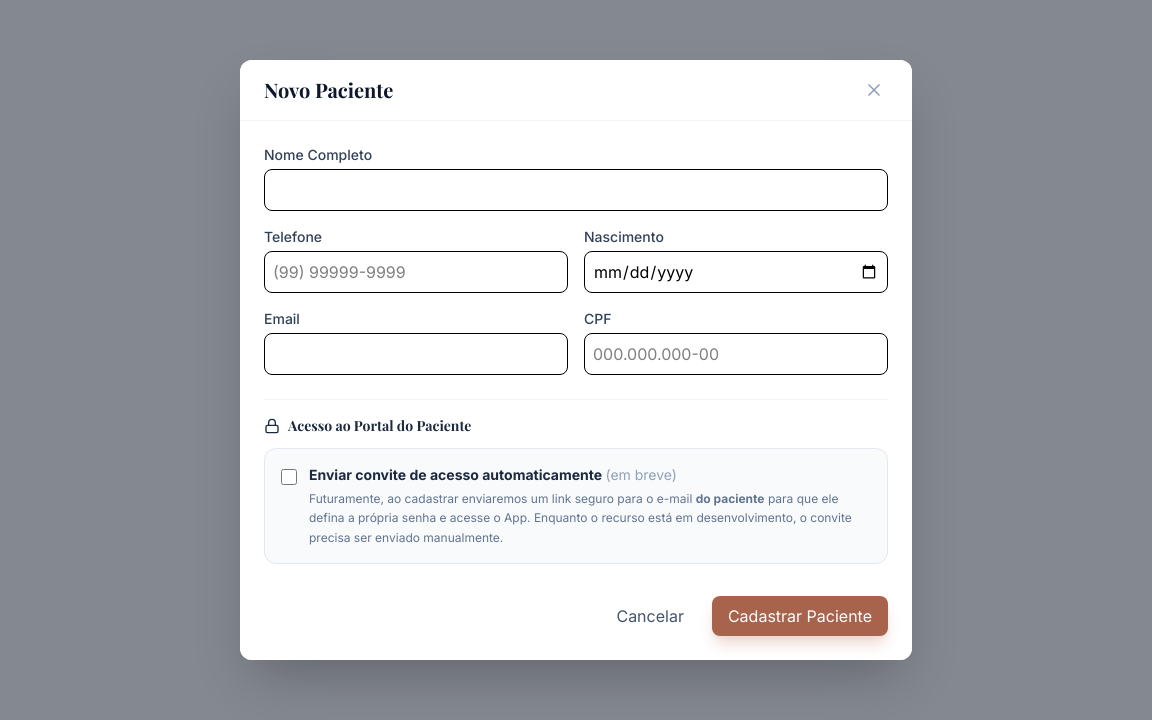
Test: NewPatientModal — validação client-side › bloqueia o submit com CPF inválido
The width and height of the screenshot is (1152, 720).
Type "Maria Souza" into the field named "Nome Completo" at [576, 190], box [264,169,888,211]
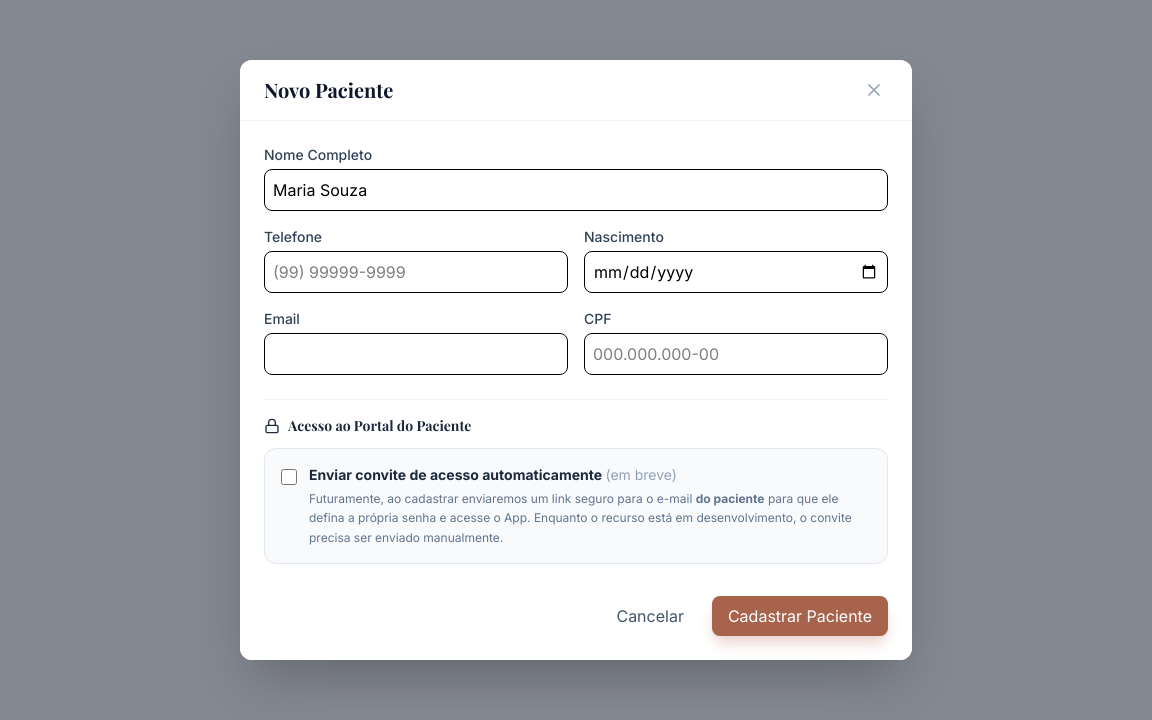
Type "11999998888" into the field with placeholder "(99) 99999-9999" at [416, 272], box [264,251,568,293]
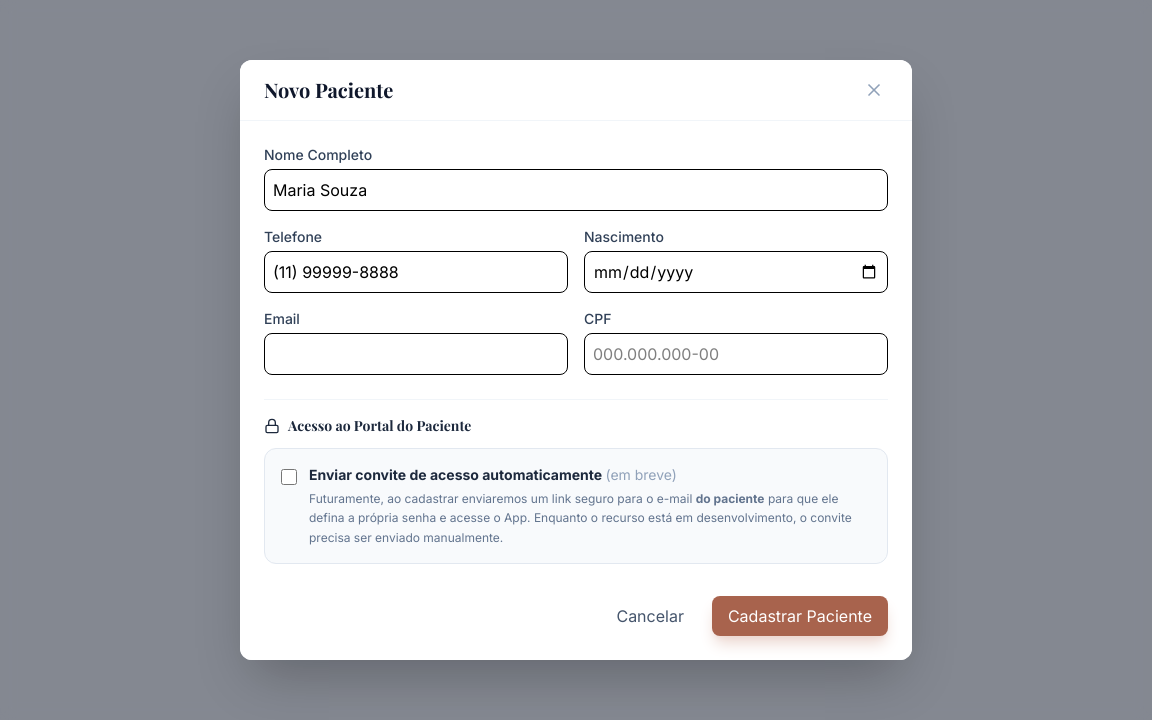
Type "maria@example.com" into the field below "Email" at [416, 354], box [264,333,568,375]
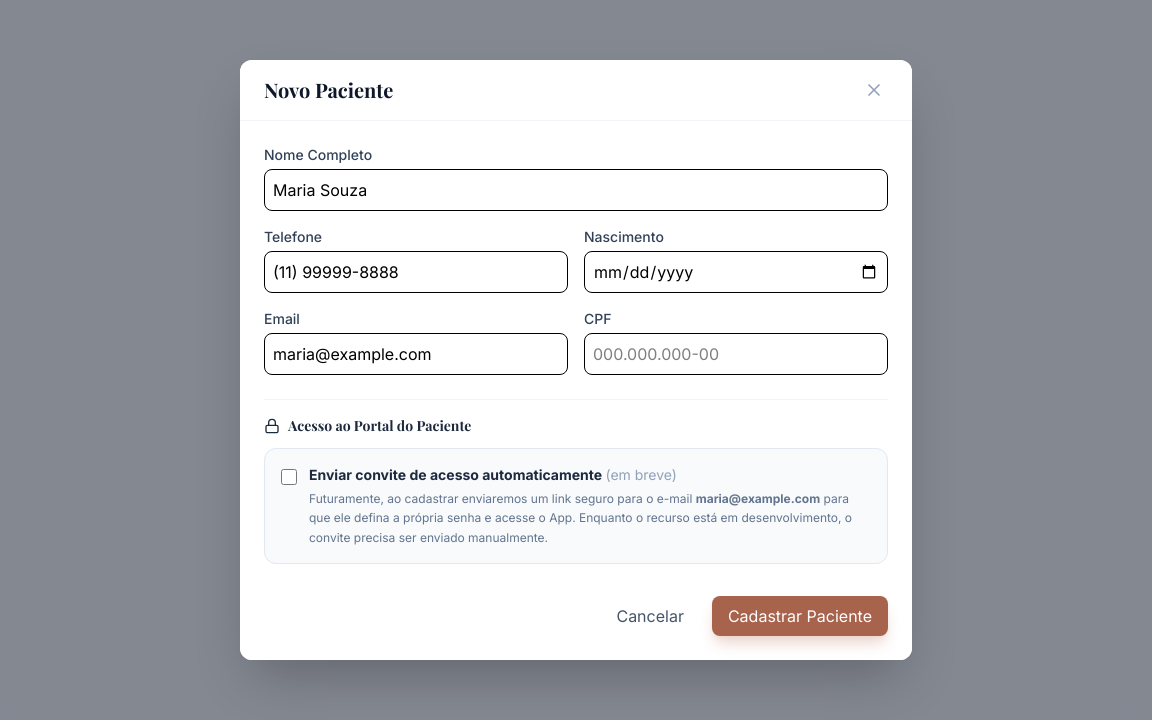
Type "1990-05-15" into the date field at [736, 272], box [584,251,888,293]
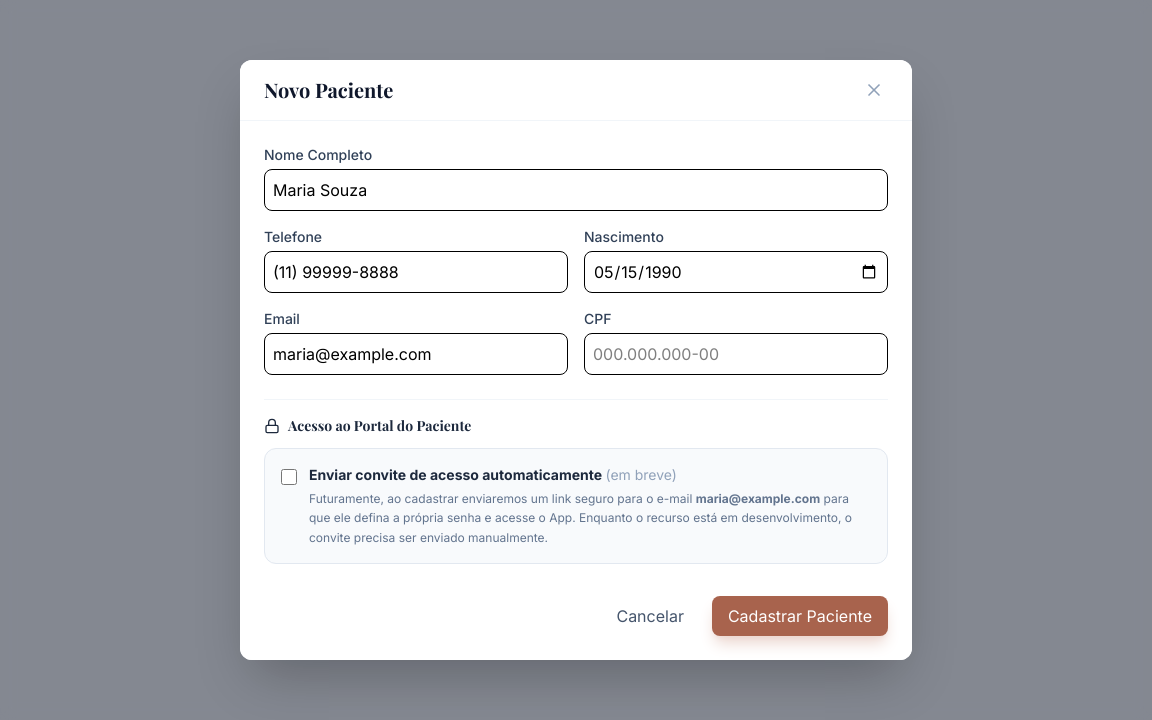
Type "111.111.111-11" into the field with placeholder "000.000.000-00" at [736, 354], box [584,333,888,375]
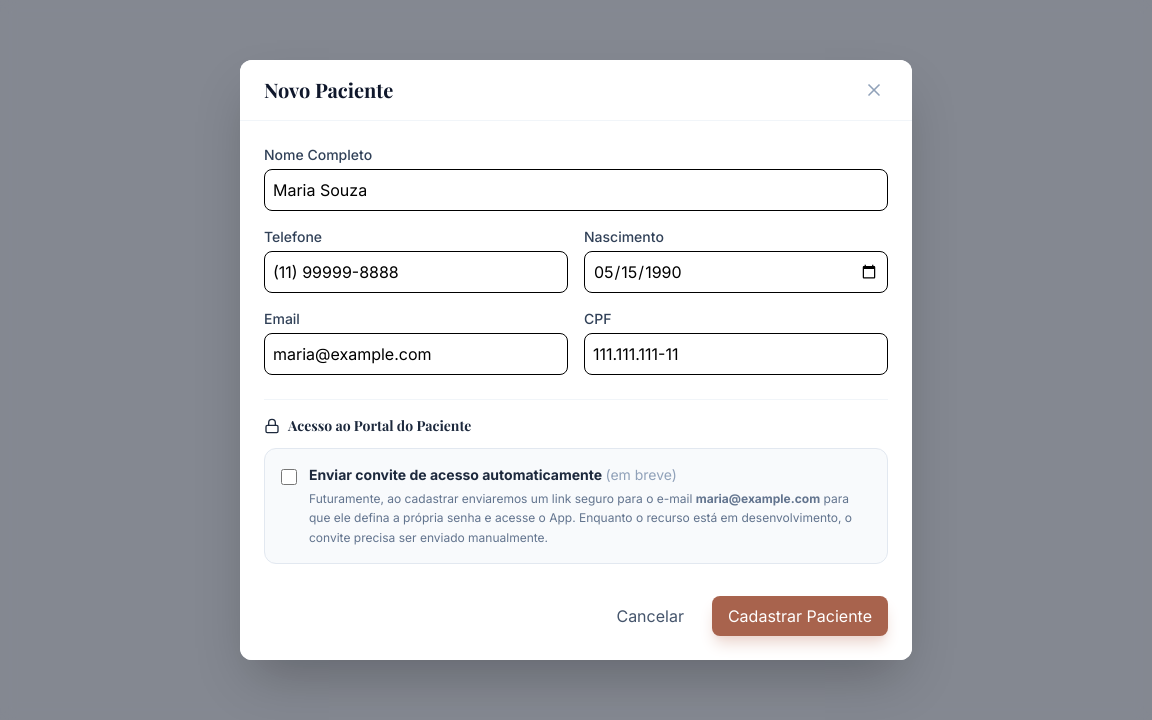
Submit the form, box [264,145,888,636]
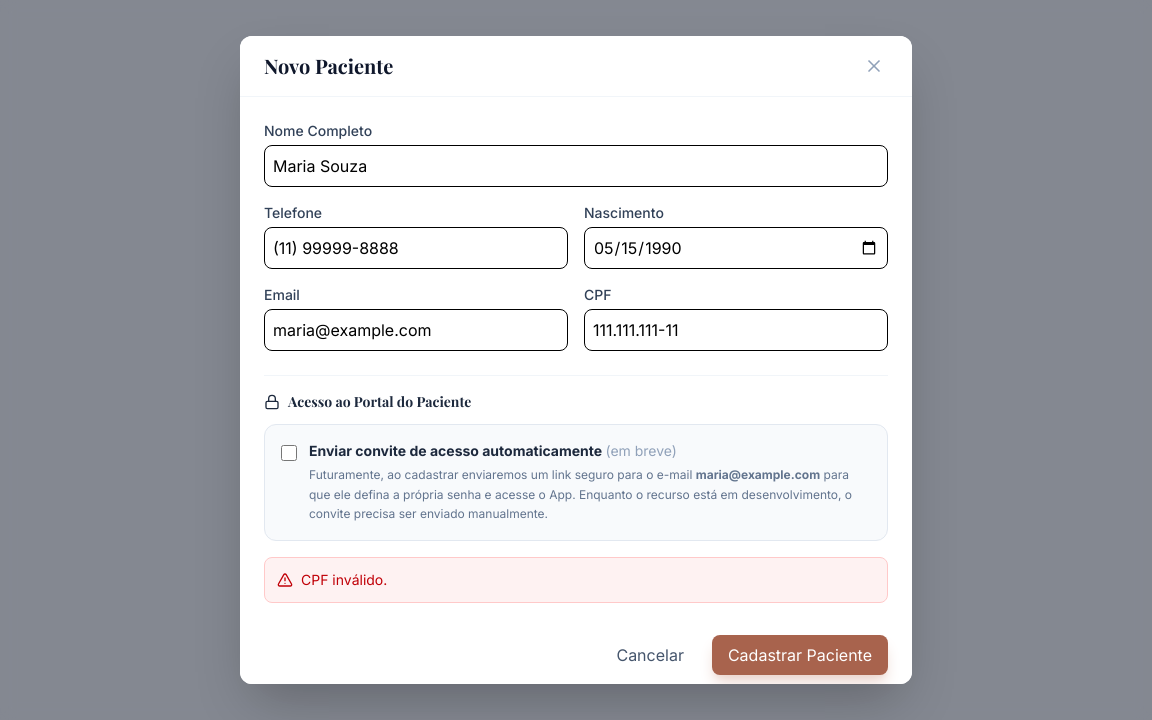
Result: the text "CPF inválido." is shown at [264,556,888,602]
